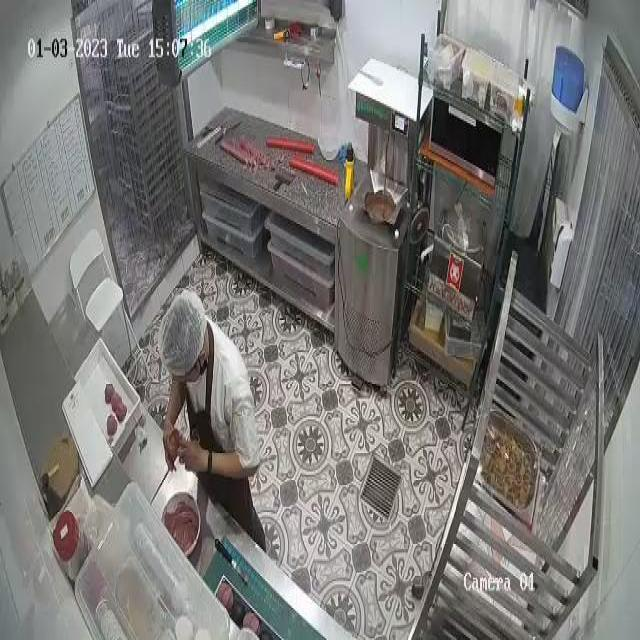hairnet: (156, 287, 199, 366)
